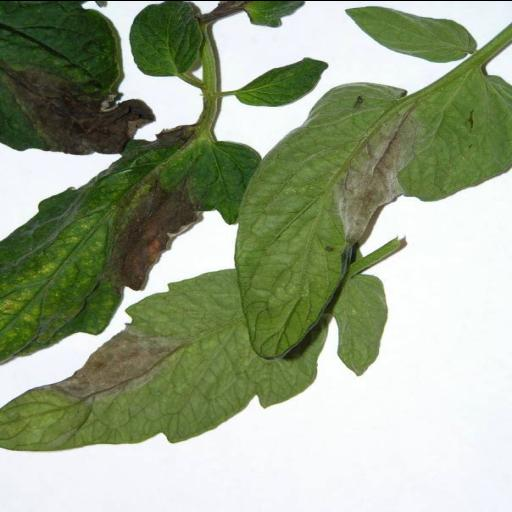Healthy: (339, 4, 479, 62), (130, 0, 204, 74), (236, 55, 330, 105)
Late Blight: (2, 244, 382, 460), (226, 66, 506, 356), (2, 128, 252, 368), (0, 0, 152, 158)
